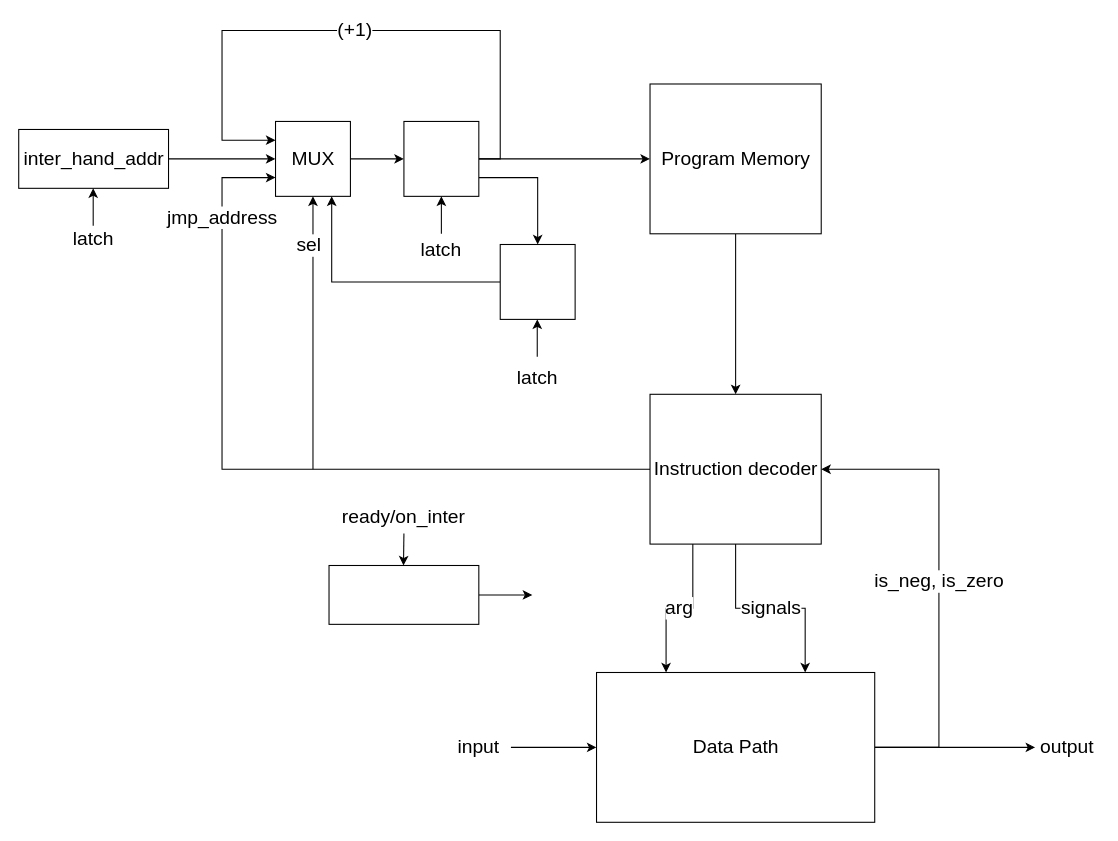
The diagram is 1118 pixels wide and 841 high, and some of its shapes have lost their labels. Here are the shapes that lost their labels. From the top down, the centre of each, then its label:
At pixel 441 158: "PC".
At pixel 537 281: "context".
At pixel 403 594: "state".
